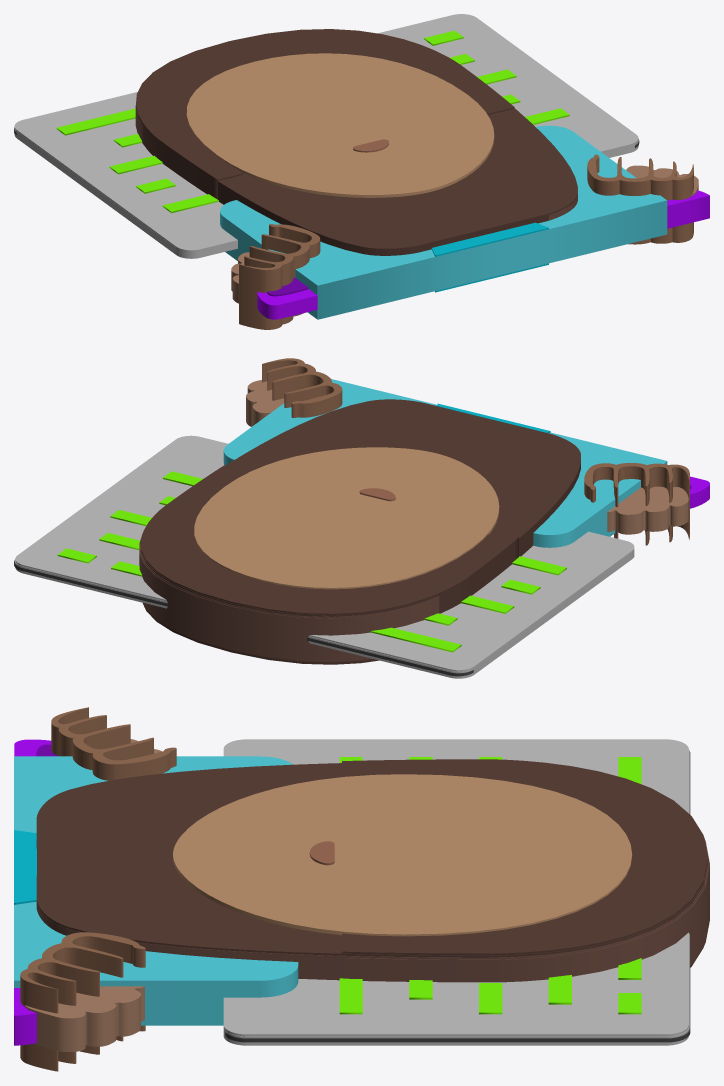
Rendered from emoji_u1f469_1f3fd_200d_1f4bb.glb.
3 views of the same model, one above another, from view 1: azimuth 30°, elevation 25°; view 2: azimuth 150°, elevation 25°; view 3: azimuth 270°, elevation 25° (orthographic). The views are drawn at different scales.
Visible parts, largest first — view 1: emoji_u1f469_1f3fd_200d_1f4bb; view 2: emoji_u1f469_1f3fd_200d_1f4bb; view 3: emoji_u1f469_1f3fd_200d_1f4bb.
Boxes of the visible parts, x1,y1,x2,y2 form: emoji_u1f469_1f3fd_200d_1f4bb: (14, 14, 709, 329); emoji_u1f469_1f3fd_200d_1f4bb: (14, 358, 709, 678); emoji_u1f469_1f3fd_200d_1f4bb: (14, 707, 709, 1071).
Bounding box in the file's own units: 0.0339 × 0.0044 × 0.0337.
